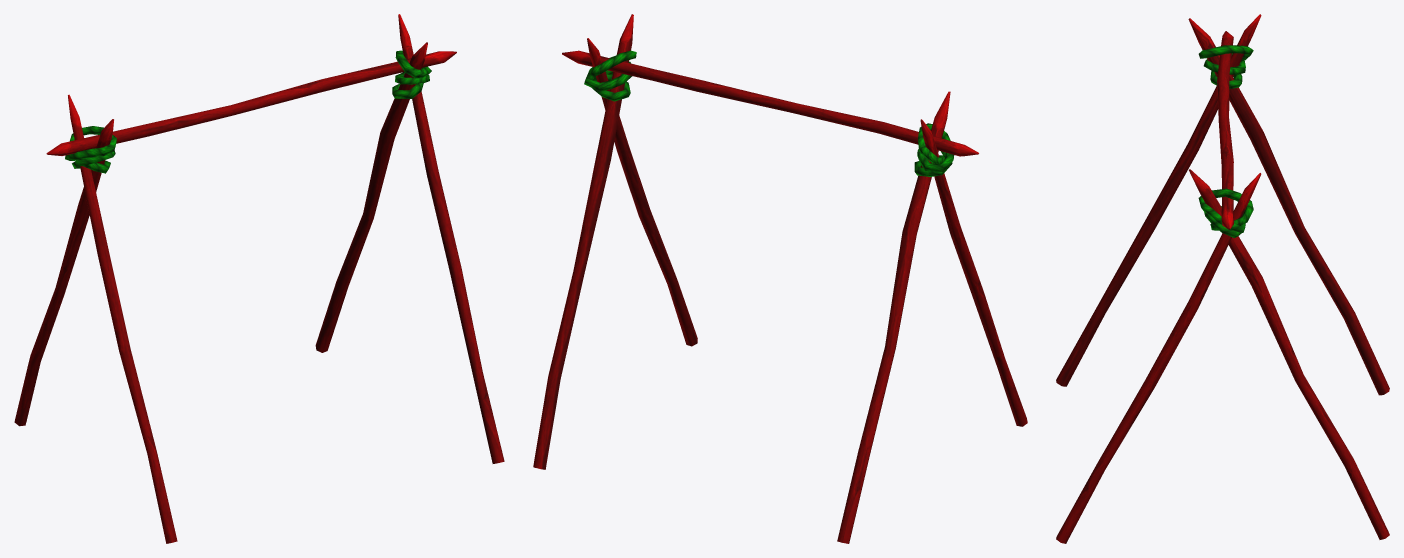
File: Stand02.fbx
3 renders of one model, left to right at view 1: azimuth 30°, elevation 25°; view 2: azimuth 150°, elevation 25°; view 3: azimuth 270°, elevation 25°, orthographic. The views are drawn at different scales.
Visible parts, largest first — view 1: Stand02_LOD0; view 2: Stand02_LOD0; view 3: Stand02_LOD0.
Boxes of the visible parts, bbox=[...] form: Stand02_LOD0: bbox=[14, 14, 504, 543]; Stand02_LOD0: bbox=[533, 14, 1027, 543]; Stand02_LOD0: bbox=[1056, 14, 1389, 543].
Size of what is drawn, in the model's own units: 1.2 by 1.06 by 0.8595.
